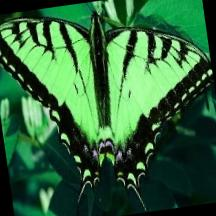butterfly: (0, 14, 213, 191)
